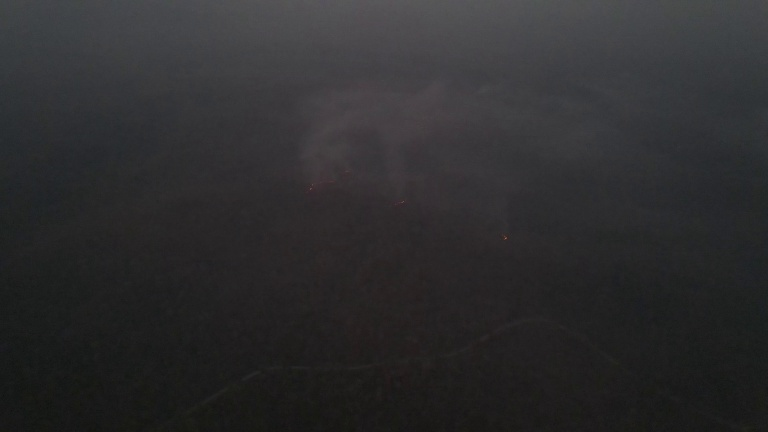fire: (343, 166, 356, 182), (306, 181, 316, 196), (327, 178, 339, 189), (396, 197, 408, 207), (501, 231, 511, 241)
smoke: (295, 74, 467, 204)
